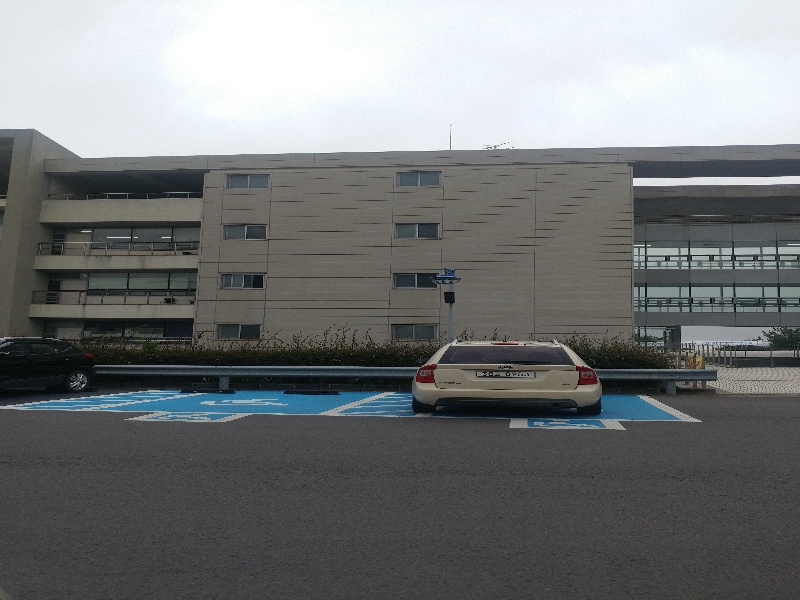Engineering College Building 4: (1, 145, 796, 337)
